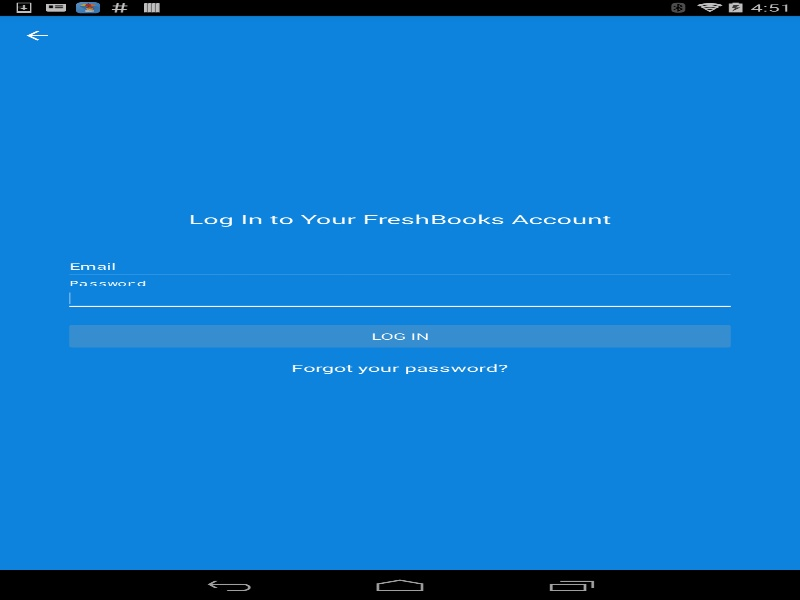Button: (64, 321, 736, 351)
Input: (64, 254, 736, 279), (64, 286, 736, 311)
